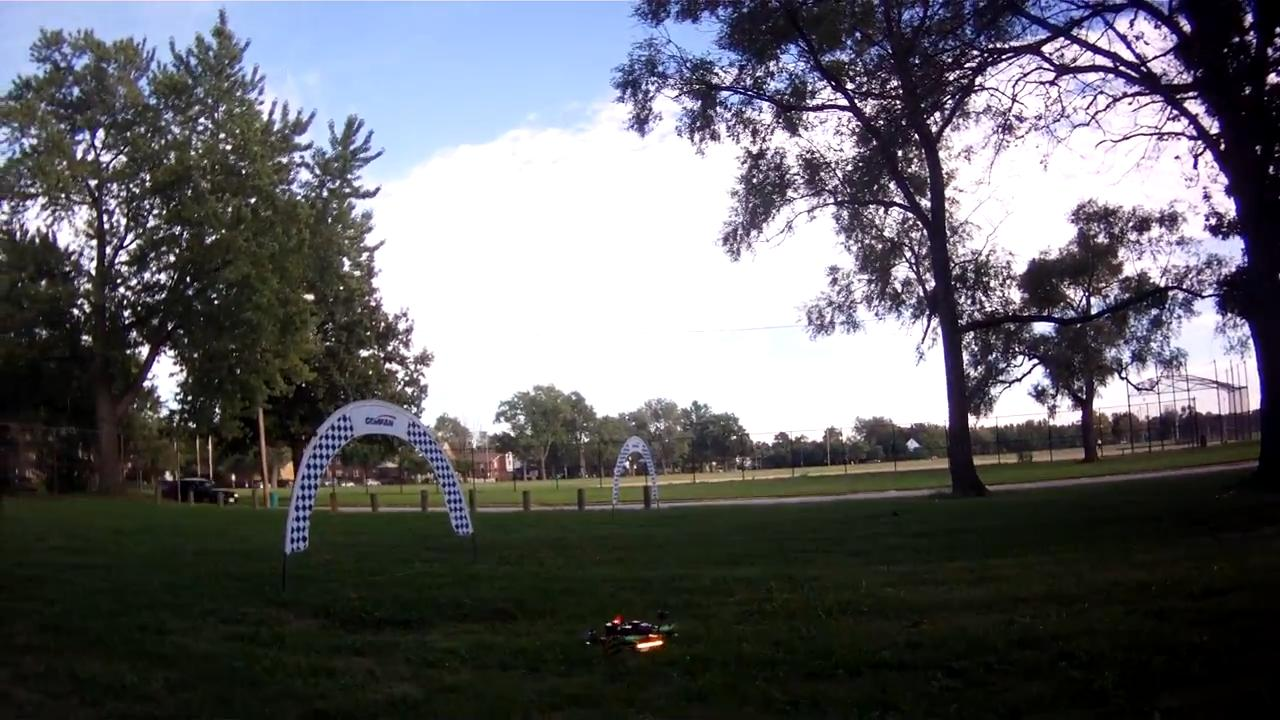gate: (285, 394, 476, 555), (608, 435, 659, 505)
